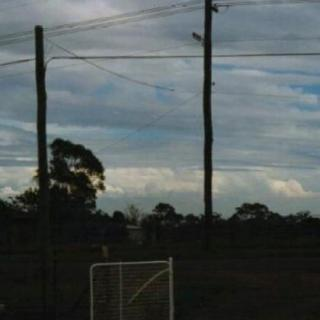Stratocumulus: (0, 1, 320, 220)
